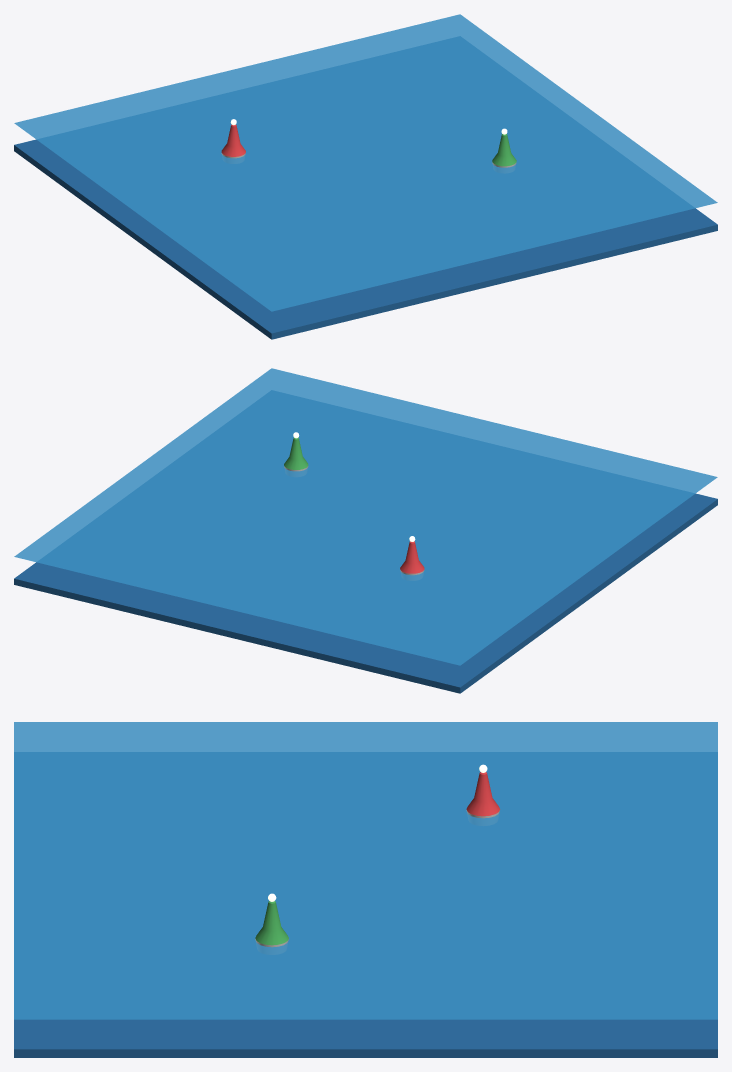
Rendered from agua_aberta.glb.
3 renders of one model, top to bottom at view 1: azimuth 30°, elevation 25°; view 2: azimuth 150°, elevation 25°; view 3: azimuth 270°, elevation 25°, orthographic. The views are drawn at different scales.
Visible parts, largest first — view 1: agua_aberta; view 2: agua_aberta; view 3: agua_aberta.
Boxes of the visible parts, <box> form: agua_aberta: <box>14,14,717,339</box>; agua_aberta: <box>14,368,717,693</box>; agua_aberta: <box>14,722,717,1057</box>.
Bounding box in the file's own units: 15 × 1.99 × 15.
3 materials, 1 textured.
